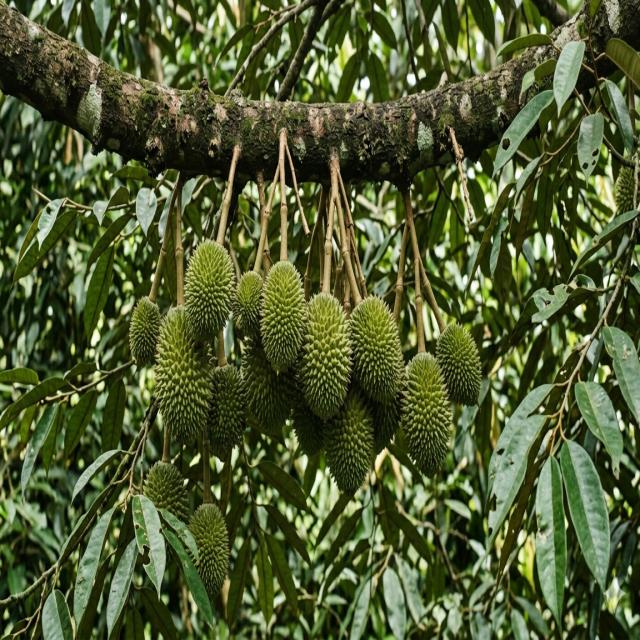immature: (153, 310, 211, 443), (298, 291, 352, 417), (400, 351, 454, 475), (348, 292, 403, 398), (182, 235, 235, 340), (258, 259, 307, 368), (324, 393, 376, 494), (242, 344, 294, 437), (188, 501, 231, 598), (436, 317, 483, 403), (206, 362, 248, 457), (288, 371, 332, 457), (144, 460, 188, 528), (364, 377, 402, 453), (127, 294, 162, 367), (232, 268, 265, 339), (615, 158, 639, 214)
